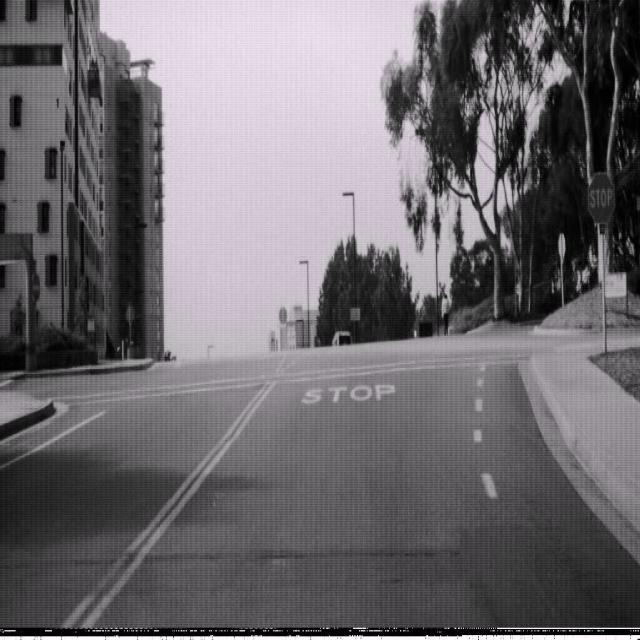stop: (587, 170, 615, 224)
